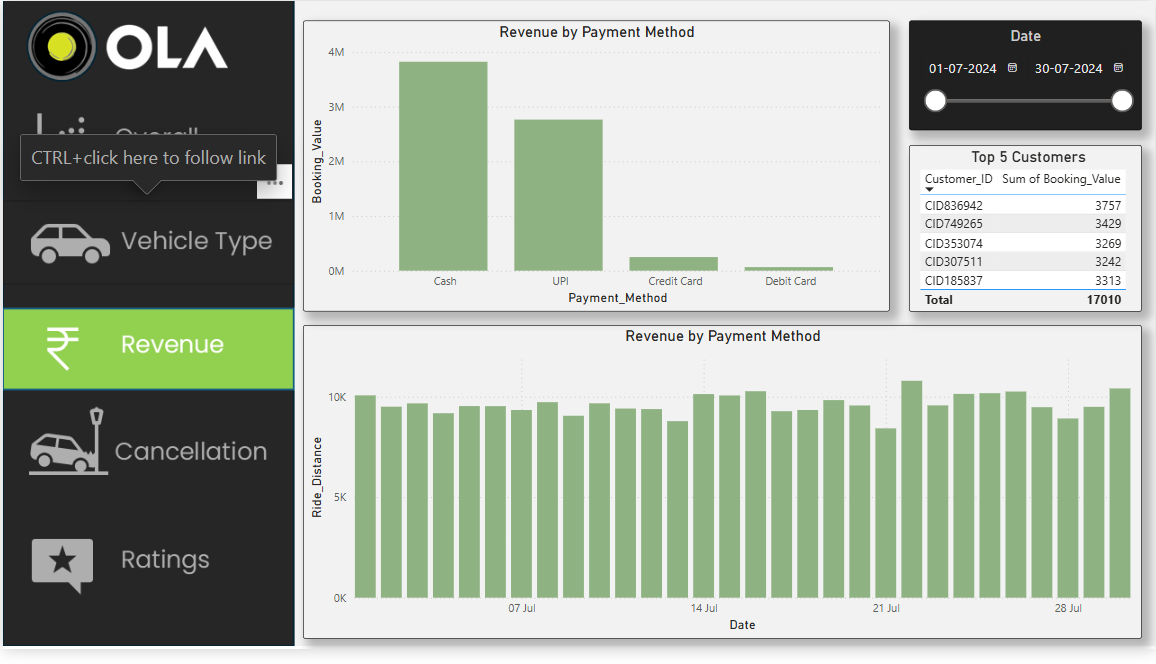

The page's visual inventory and layout, read from the dashboard file:
{"tool":"powerbi","page":{"name":"Revenue","canvas":[1280,720],"ordinal":2},"visuals":[{"type":"actionButton","box":[0,221.2,323.7,94.3],"z":0},{"type":"actionButton","box":[0,112.2,323.7,94.3],"z":1000},{"type":"actionButton","box":[0,107.4,323.7,94.3],"z":2000},{"type":"actionButton","box":[0,447.3,323.7,94.3],"z":3000},{"type":"actionButton","box":[0,574.2,323.7,94.3],"z":4000},{"type":"columnChart","title":"Revenue by Payment Method","fields":{"Category":["July.Payment_Method"],"Y":["Sum(July.Booking_Value)"]},"box":[333.3,21.7,651.7,323.3],"z":4001},{"type":"columnChart","title":"Revenue by Payment Method","fields":{"Y":["Sum(July.Ride_Distance)"],"Category":["July.Date"]},"box":[333.3,360,931.7,348.3],"z":4002},{"type":"slicer","title":"Date","fields":{"Values":["July.Date"]},"box":[1006.7,21.7,258.3,121.7],"z":4003},{"type":"tableEx","title":"Top 5 Customers","fields":{"Values":["July.Customer_ID","Sum(July.Booking_Value)"]},"box":[1006.7,160,258.3,185],"z":4004}]}

Visuals, with their boxes in screenshot pixels (x1, y1, x2, y2), scaled from the page's 1280x720 canvas onto the 1156x664 screenshot:
actionButton: box=[0, 204, 292, 291]
actionButton: box=[0, 103, 292, 190]
actionButton: box=[0, 99, 292, 186]
actionButton: box=[0, 413, 292, 499]
actionButton: box=[0, 530, 292, 617]
"Revenue by Payment Method" columnChart: box=[301, 20, 890, 318]
"Revenue by Payment Method" columnChart: box=[301, 332, 1142, 653]
"Date" slicer: box=[909, 20, 1142, 132]
"Top 5 Customers" tableEx: box=[909, 148, 1142, 318]
